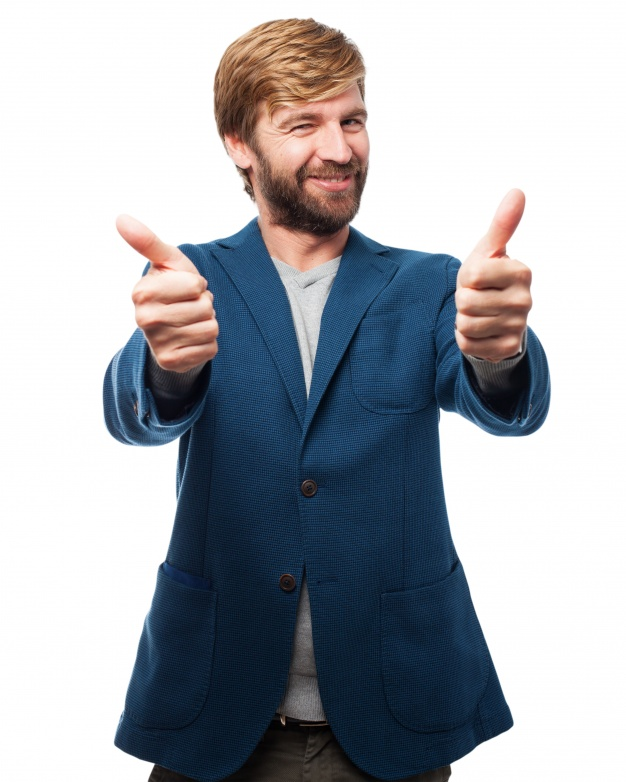thumbsup: (116, 214, 220, 369), (454, 189, 532, 358)
